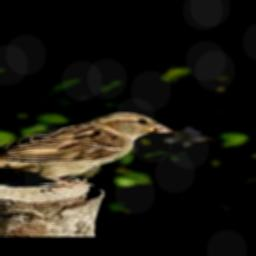Sparrow: (0, 111, 172, 185)
